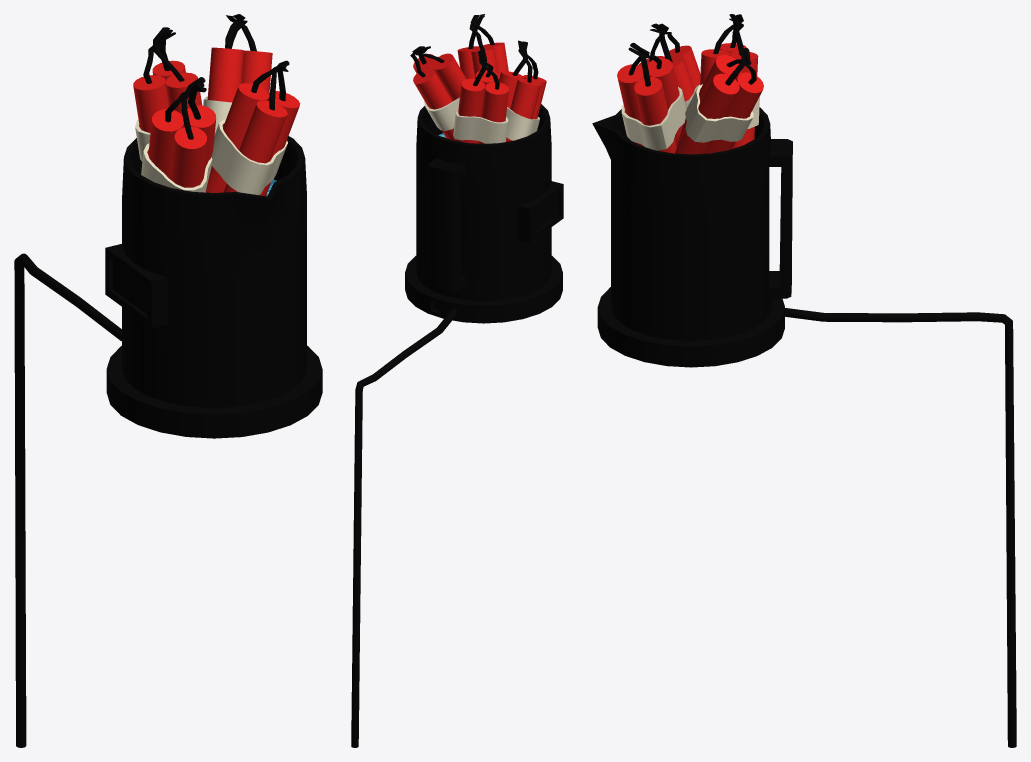
The model's file is Mdl_Kettle.fbx.
The picture shows the model from 3 angles, left to right: view 1: azimuth 30°, elevation 25°; view 2: azimuth 150°, elevation 25°; view 3: azimuth 270°, elevation 25°; orthographic projection. The views are drawn at different scales.
Visible parts, largest first — view 1: kettle, wire; view 2: kettle, wire; view 3: kettle, wire.
Part boxes in pixels (<box>): kettle: <box>105,14,322,438</box>; wire: <box>14,253,121,747</box>; kettle: <box>405,14,563,323</box>; wire: <box>351,308,457,747</box>; kettle: <box>592,14,792,367</box>; wire: <box>785,308,1016,747</box>.
Bounding box in the file's own units: 83.59 × 357 × 190.
Materials: 4 (1 with a texture image).
